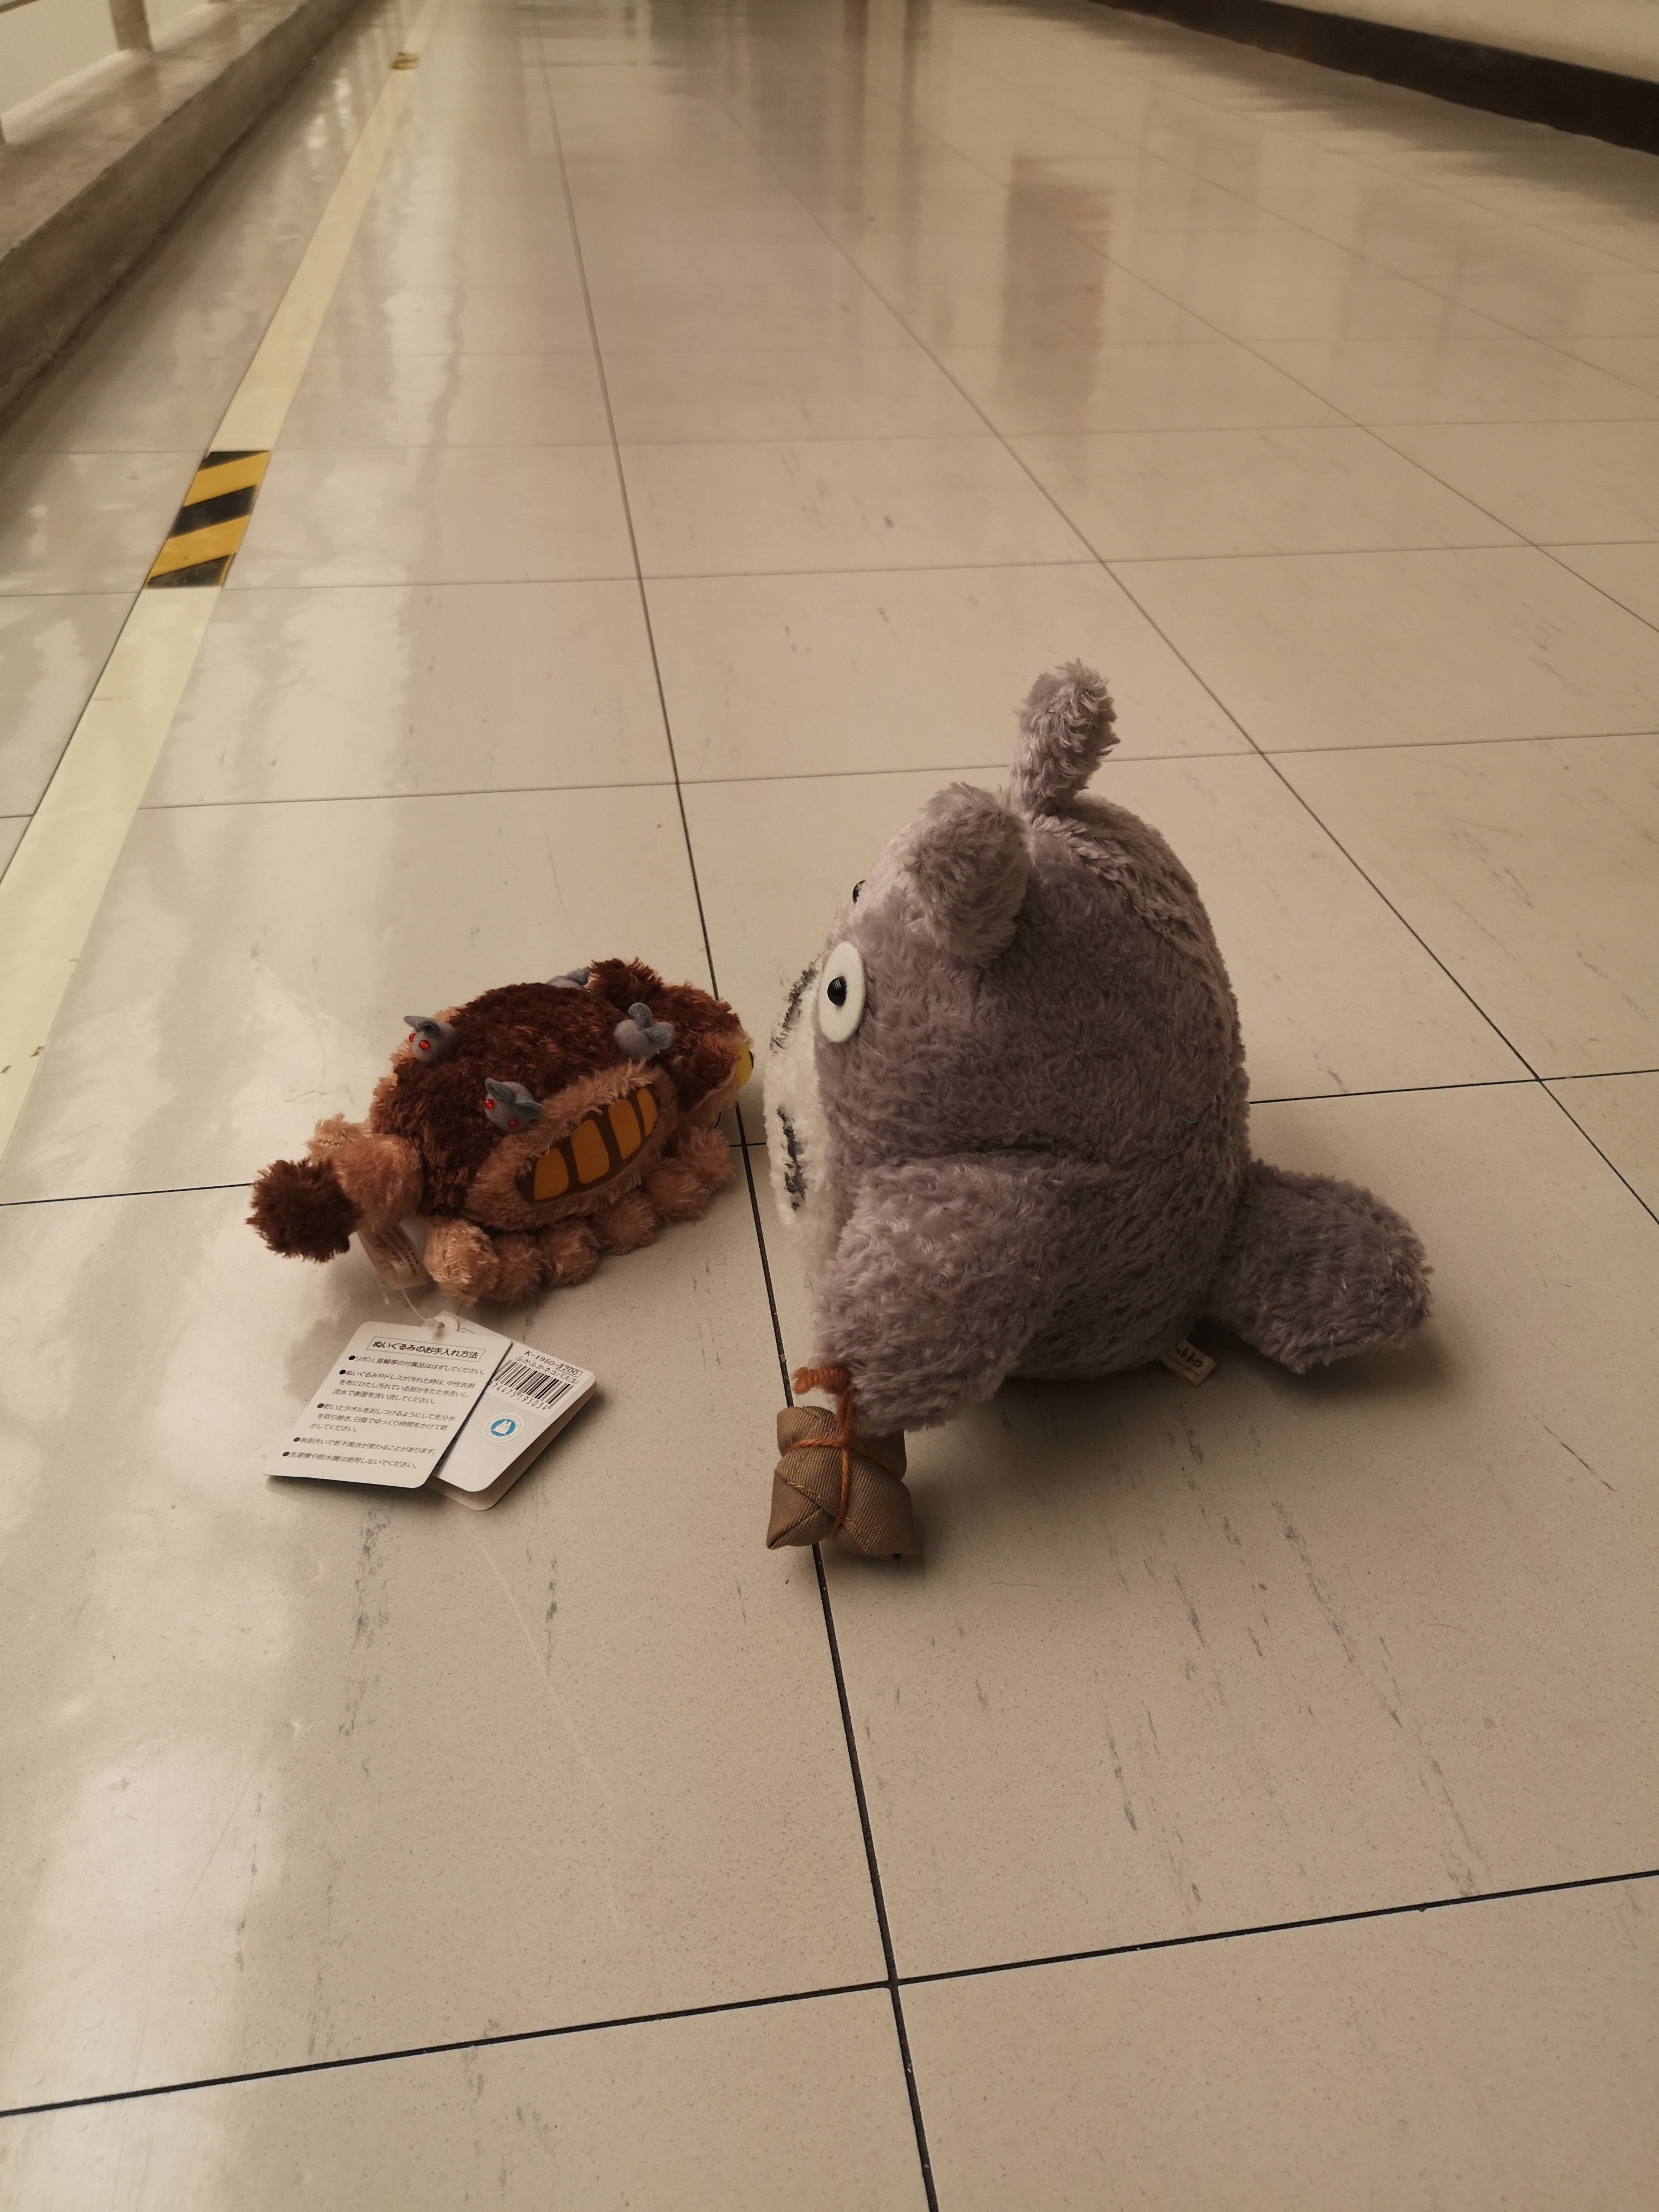nekobus: (244, 930, 770, 1310)
totoro: (765, 660, 1446, 1561)
